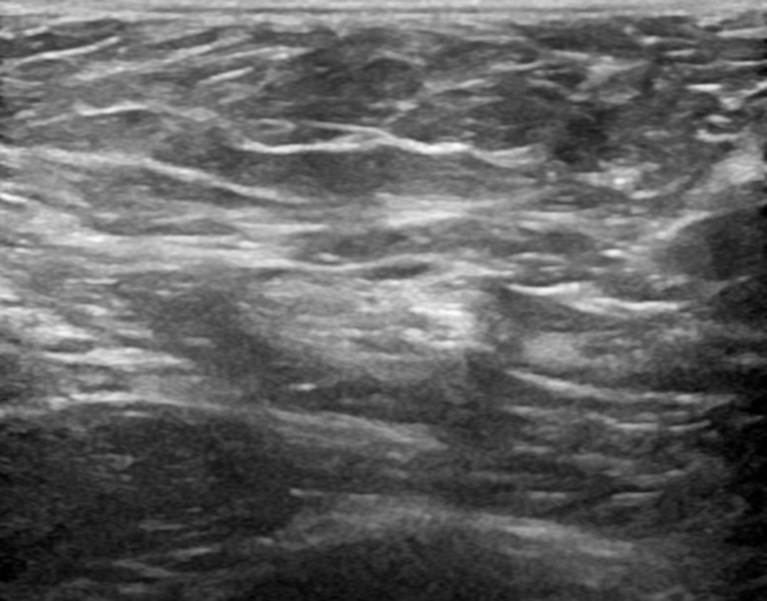Normal: (5, 24, 767, 562)
